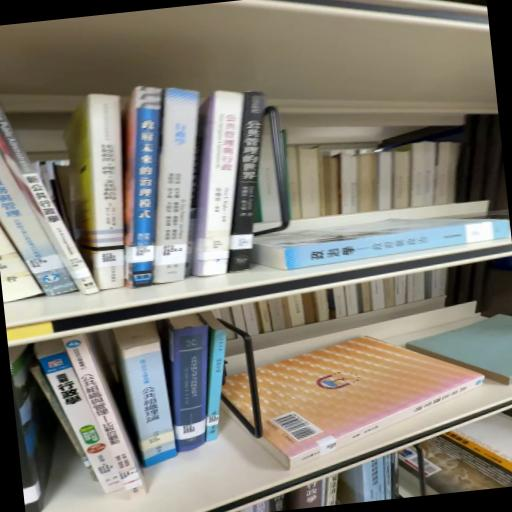flat: (256, 336, 484, 469), (253, 219, 511, 270), (223, 373, 257, 420)
